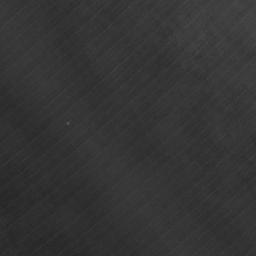Target: (63, 120, 69, 126)
